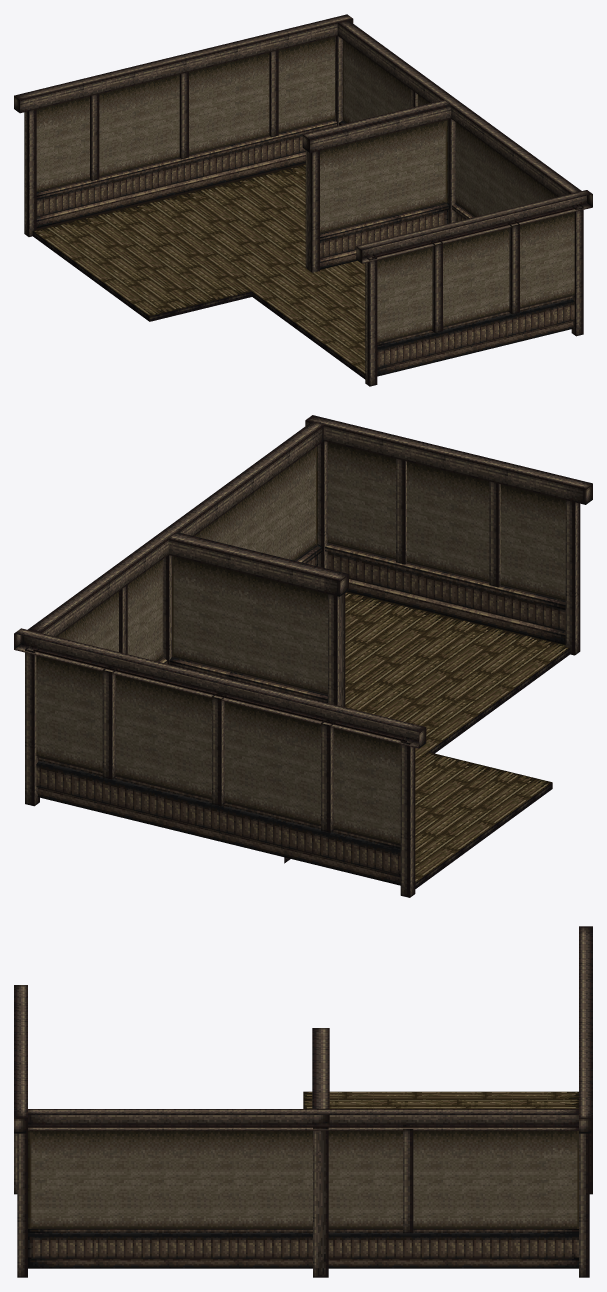
The model's file is EnvBdgMD_WoodHouse_A_Indoor_Inn_A.FBX.
3 renders of one model, top to bottom at view 1: azimuth 30°, elevation 25°; view 2: azimuth 150°, elevation 25°; view 3: azimuth 270°, elevation 25°, orthographic. The views are drawn at different scales.
Visible parts, largest first — view 1: EnvBdgMD_WoodHouse_A_Indoor_Inn_A; view 2: EnvBdgMD_WoodHouse_A_Indoor_Inn_A; view 3: EnvBdgMD_WoodHouse_A_Indoor_Inn_A.
Part boxes in pixels (<box>): EnvBdgMD_WoodHouse_A_Indoor_Inn_A: <box>14,14,592,386</box>; EnvBdgMD_WoodHouse_A_Indoor_Inn_A: <box>14,415,592,897</box>; EnvBdgMD_WoodHouse_A_Indoor_Inn_A: <box>14,926,592,1277</box>.
Bounding box in the file's own units: 1300 × 520 × 1660.
Materials: 1 (1 with a texture image).
